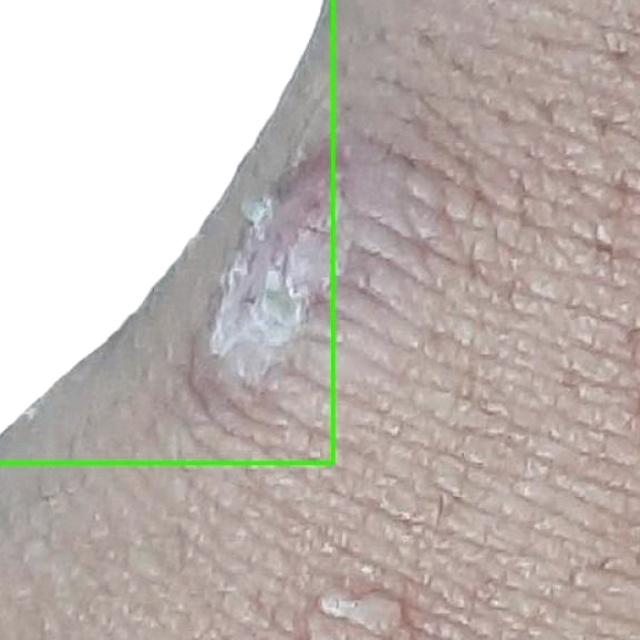Contact Dermatitis: (0, 0, 333, 462)
